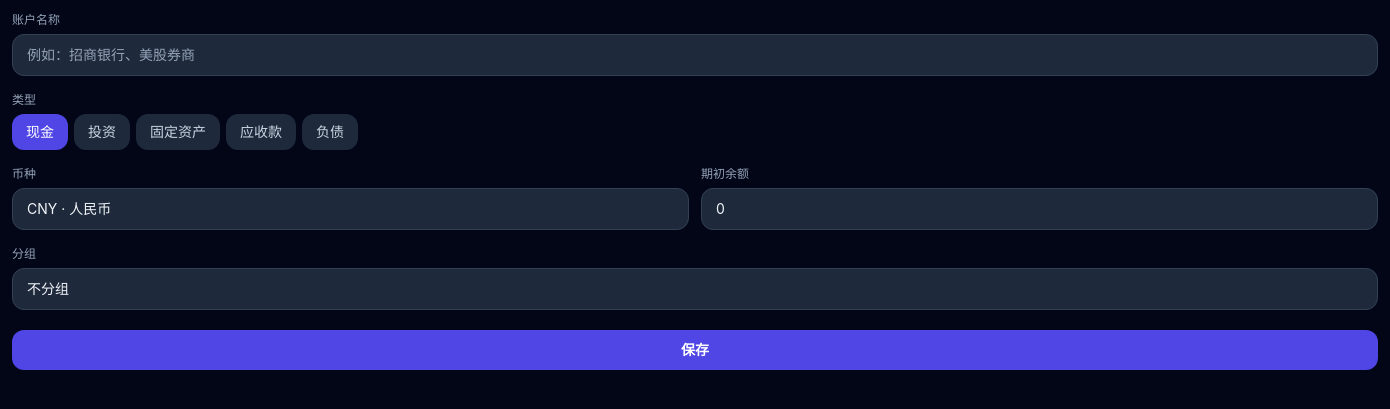
Scenario: AccountForm › blocks submission and shows an error for an empty name
Click the button "保存" at (695, 350), box [12,330,1378,370]
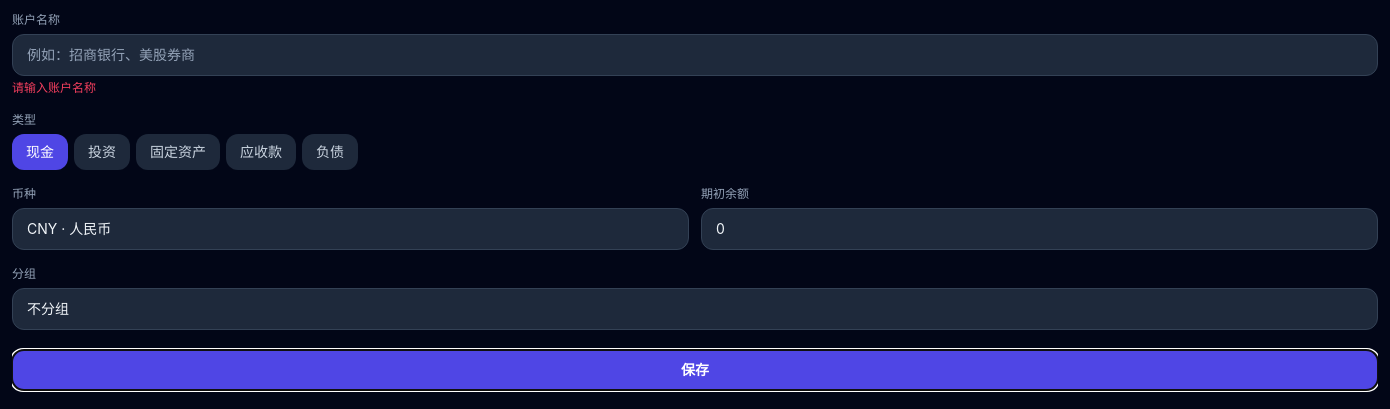
Result: the text "请输入账户名称" is shown at [12,80,96,95]
